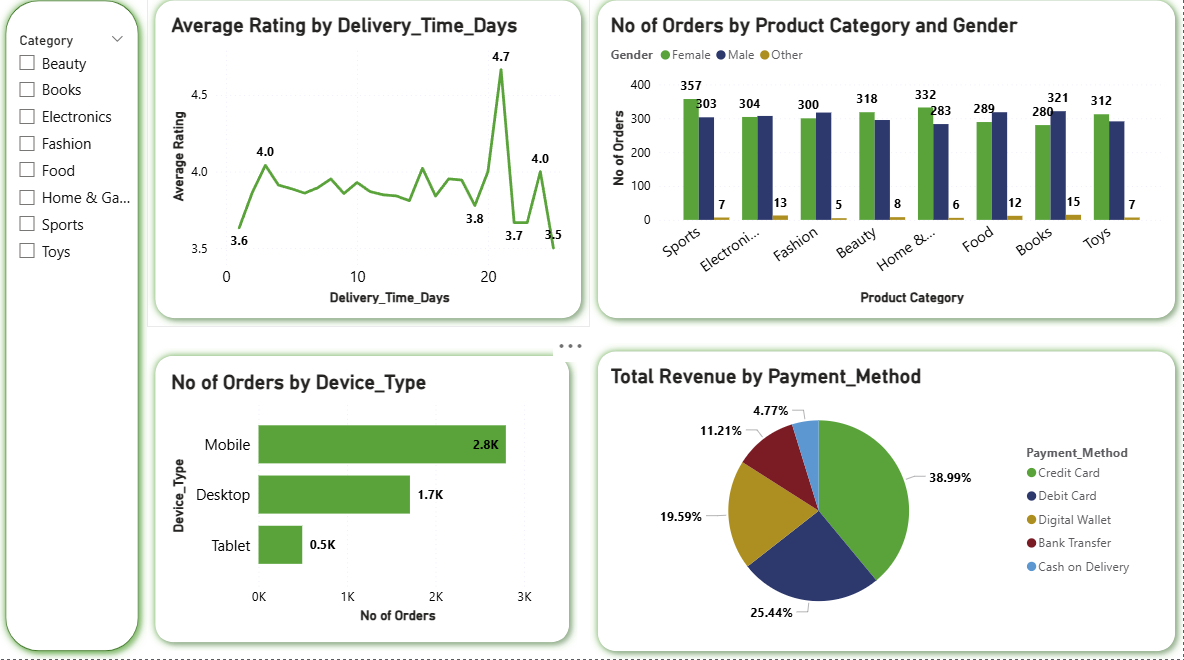

The page's visual inventory and layout, read from the dashboard file:
{"tool":"powerbi","page":{"name":"Page 3","canvas":[1280,720],"ordinal":2},"visuals":[{"type":"shape","box":[639.6,0,641.2,361.1],"z":0},{"type":"shape","box":[161.9,383.8,464.7,327.1],"z":1000},{"type":"shape","box":[639.6,378.9,641.2,341.7],"z":2000},{"type":"shape","box":[161.9,0,477.7,361.1],"z":3000},{"type":"lineChart","fields":{"Category":["E commerce.Delivery_Time_Days"],"Y":["E commerce.Average Rating"]},"box":[183,22.7,432.3,319],"z":5000},{"type":"clusteredColumnChart","fields":{"Category":["E commerce.Product_Category"],"Series":["E commerce.Gender"],"Y":["CountNonNull(E commerce.Order_ID)"]},"box":[657.4,22.7,607.2,319],"z":6000},{"type":"clusteredBarChart","fields":{"Category":["E commerce.Device_Type"],"Y":["CountNonNull(E commerce.Order_ID)"]},"box":[183,408,412.9,276.9],"z":7000},{"type":"pieChart","fields":{"Category":["E commerce.Payment_Method"],"Y":["E commerce.Total Revenue"]},"box":[657.4,401.6,584.5,291.5],"z":7001},{"type":"shape","box":[0,0,161.9,720.6],"z":7002},{"type":"slicer","fields":{"Values":["E commerce.Product_Category"]},"box":[11.3,38.9,137.6,288.2],"z":7003}]}

Visuals, with their boxes in screenshot pixels (x1, y1, x2, y2), scaled from the page's 1280x720 canvas onto the 1184x660 screenshot:
shape: <bbox>592, 0, 1183, 331</bbox>
shape: <bbox>150, 352, 580, 652</bbox>
shape: <bbox>592, 347, 1183, 659</bbox>
shape: <bbox>150, 0, 592, 331</bbox>
lineChart - E commerce.Delivery_Time_Days x E commerce.Average Rating: <bbox>169, 21, 569, 313</bbox>
clusteredColumnChart - E commerce.Product_Category x E commerce.Gender: <bbox>608, 21, 1170, 313</bbox>
clusteredBarChart - E commerce.Device_Type x CountNonNull(E commerce.Order_ID): <bbox>169, 374, 551, 628</bbox>
pieChart - E commerce.Payment_Method x E commerce.Total Revenue: <bbox>608, 368, 1149, 635</bbox>
shape: <bbox>0, 0, 150, 659</bbox>
slicer - E commerce.Product_Category: <bbox>10, 36, 138, 300</bbox>
